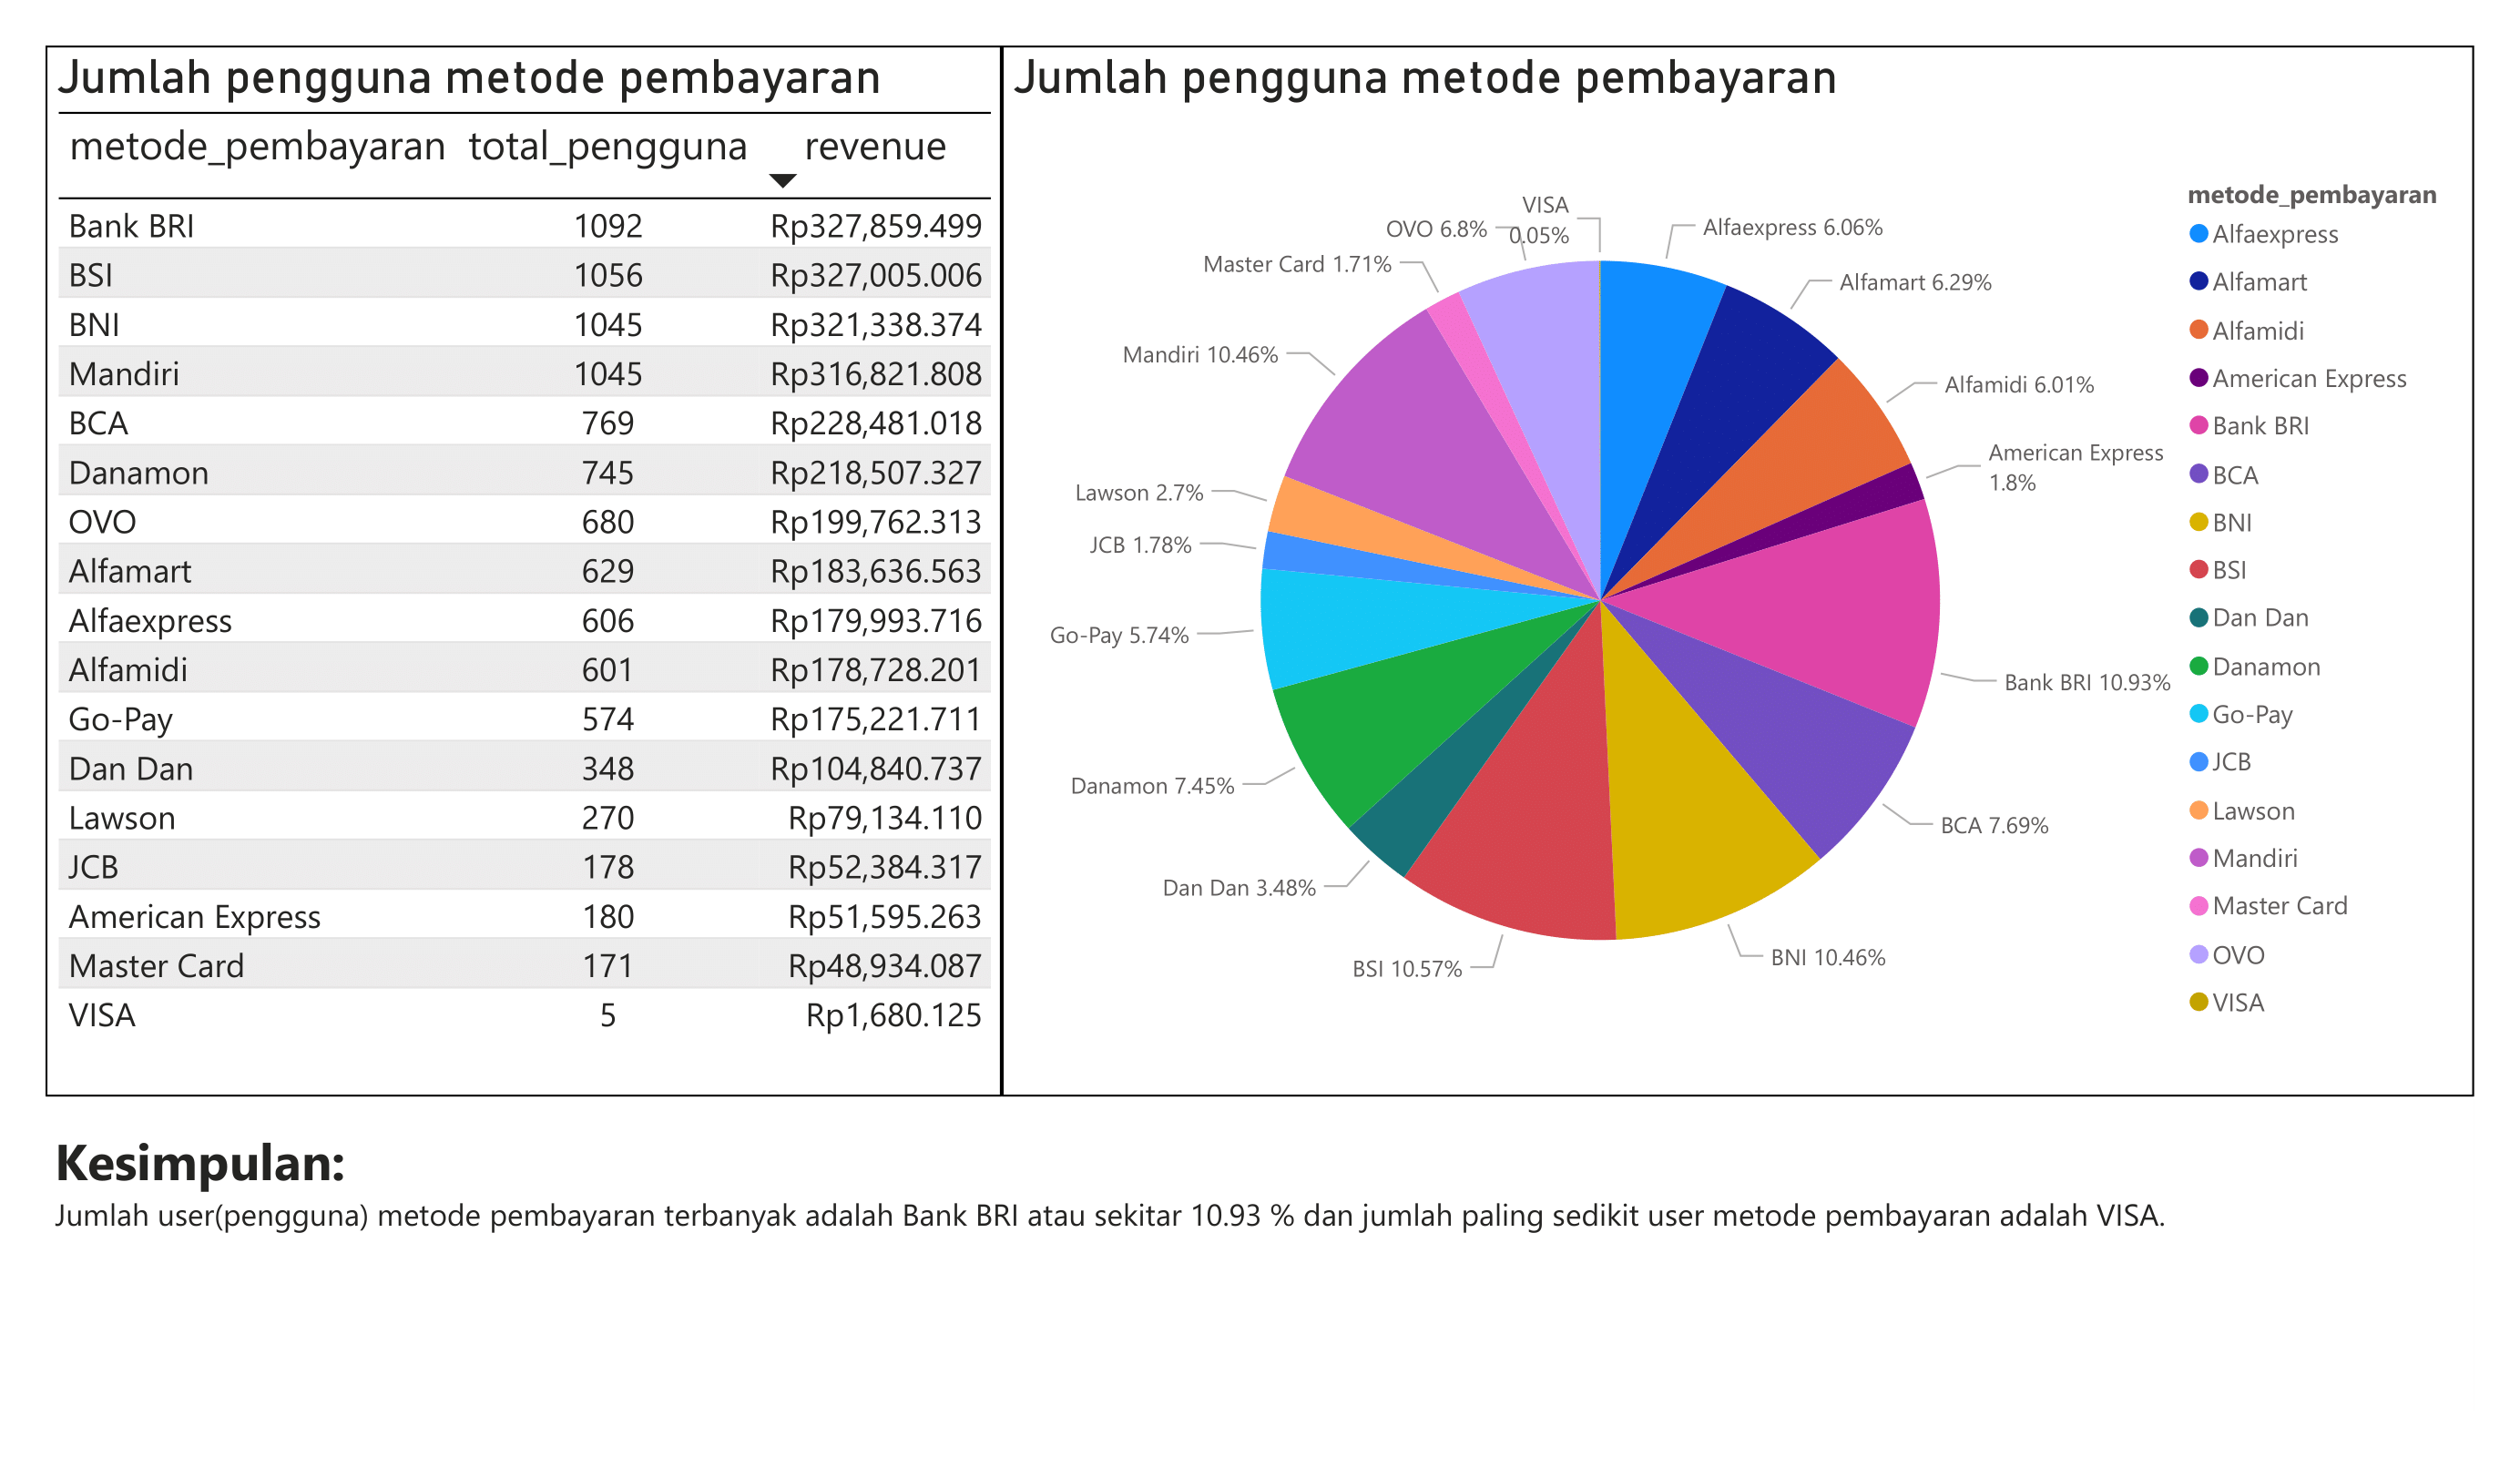

What the dashboard file says about the page in this screenshot:
{"tool":"powerbi","page":{"name":"User Pelatihan Online","canvas":[1280,720],"ordinal":1},"visuals":[{"type":"tableEx","title":"Jumlah pengguna metode pembayaran","fields":{"Values":["public db_payment_method.metode_pembayaran","public db_payment_method.total_pengguna","public db_payment_method.revenue"]},"box":[22,21,504,554],"z":0},{"type":"pieChart","title":"Jumlah pengguna metode pembayaran","fields":{"Category":["public db_payment_method.metode_pembayaran"],"Y":["Sum(public db_payment_method.total_pengguna)"]},"box":[503.5,0,776.5,553.7],"z":1000},{"type":"textbox","box":[0,564,1280,155.8],"z":2000}]}

Visuals, with their boxes in screenshot pixels (x1, y1, x2, y2):
"Jumlah pengguna metode pembayaran" tableEx: <bbox>87, 86, 1044, 1136</bbox>
"Jumlah pengguna metode pembayaran" pieChart: <bbox>1001, 46, 2474, 1096</bbox>
textbox: <bbox>46, 1116, 2474, 1411</bbox>
